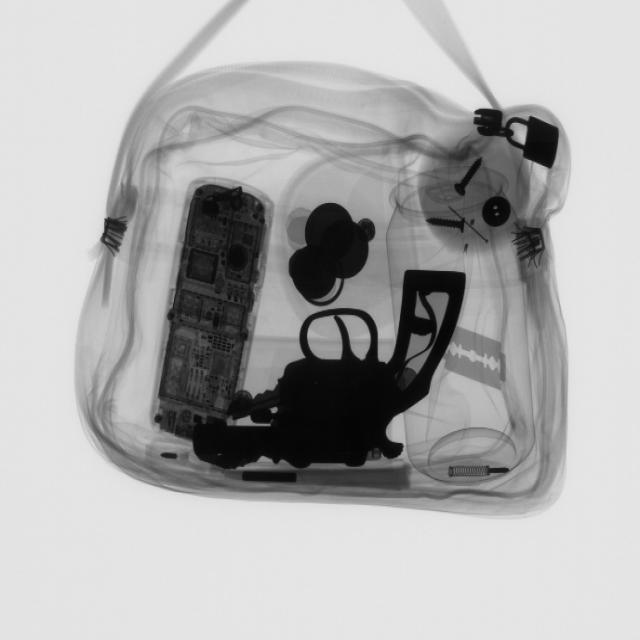BLADE: (445, 325, 513, 393)
GUN: (196, 260, 461, 469)
SCREW: (447, 151, 492, 205), (423, 208, 478, 242)
